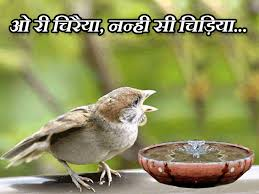hsparrow: (1, 72, 159, 194)
